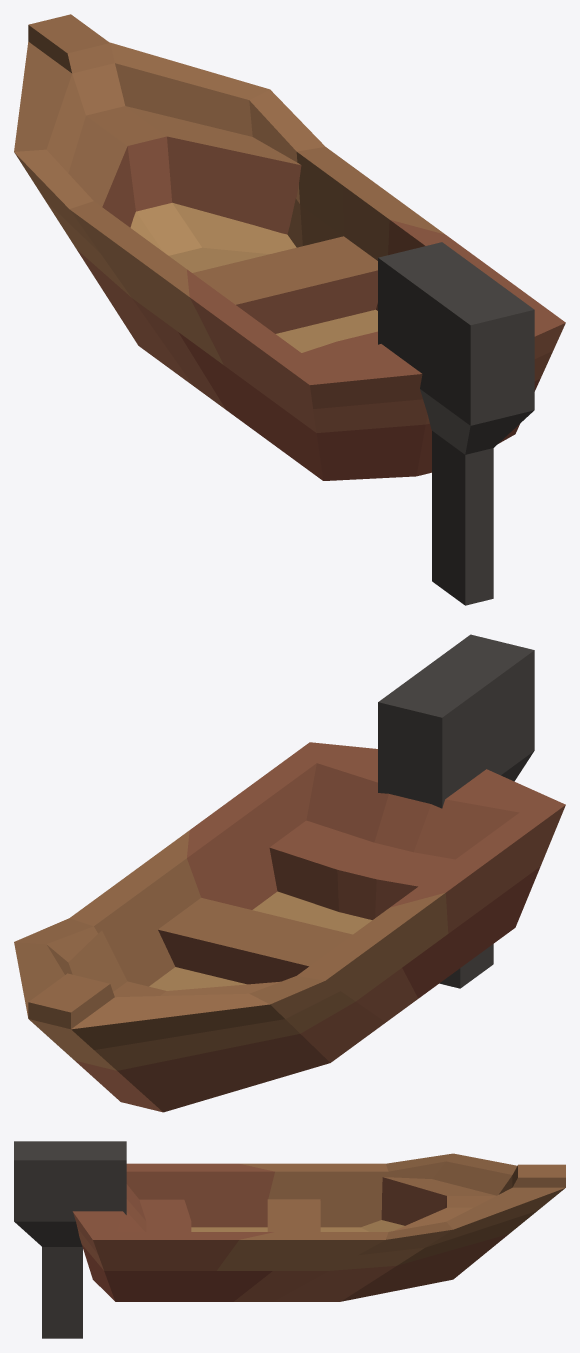
The model's file is starterBoat.fbx.
3 renders of one model, top to bottom at view 1: azimuth 30°, elevation 25°; view 2: azimuth 150°, elevation 25°; view 3: azimuth 270°, elevation 25°, orthographic. The views are drawn at different scales.
Parts seen in each view (by area): view 1: mesh, mesh_1; view 2: mesh, mesh_1; view 3: mesh, mesh_1.
Part boxes in pixels (x1=…): mesh: x1=14, y1=14, x2=565, y2=480; mesh_1: x1=378, y1=242, x2=534, y2=605; mesh: x1=14, y1=742, x2=565, y2=1112; mesh_1: x1=378, y1=634, x2=534, y2=988; mesh: x1=72, y1=1153, x2=565, y2=1301; mesh_1: x1=14, y1=1141, x2=126, y2=1338.
Size of the model in its own units: 62.5 by 70.31 by 191.
Materials: 1 (1 with a texture image).
